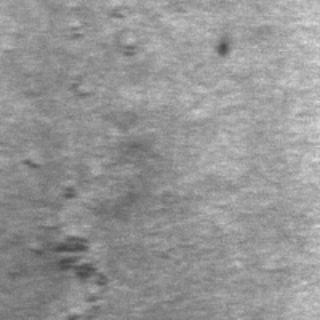rolled pit: (27, 176, 105, 318), (64, 0, 134, 91)
